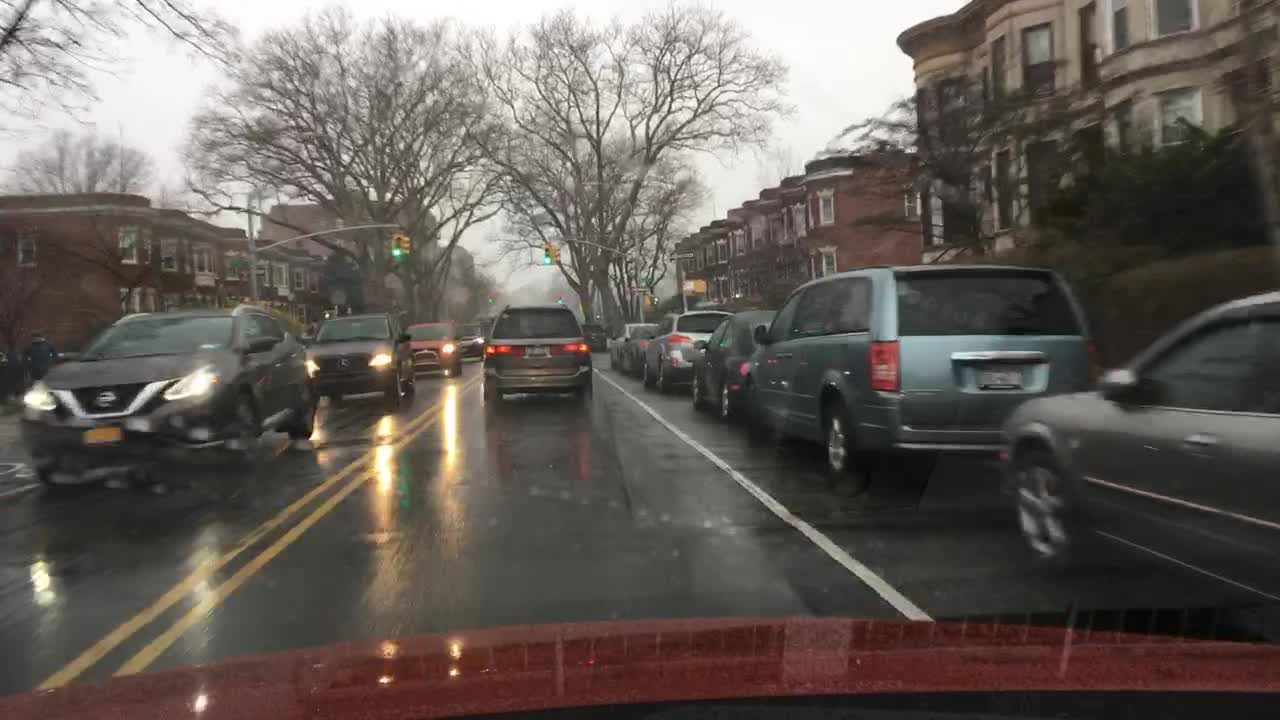car: (998, 283, 1277, 617), (737, 263, 1111, 490), (16, 306, 318, 494), (483, 299, 593, 410), (307, 311, 418, 408), (688, 308, 773, 421), (640, 307, 734, 395), (404, 320, 465, 374), (619, 325, 659, 370), (608, 325, 654, 364), (28, 328, 59, 382), (458, 329, 484, 361), (583, 321, 609, 351)
traffic light: (391, 233, 405, 257), (400, 235, 412, 254), (543, 242, 552, 261), (558, 246, 562, 258)
